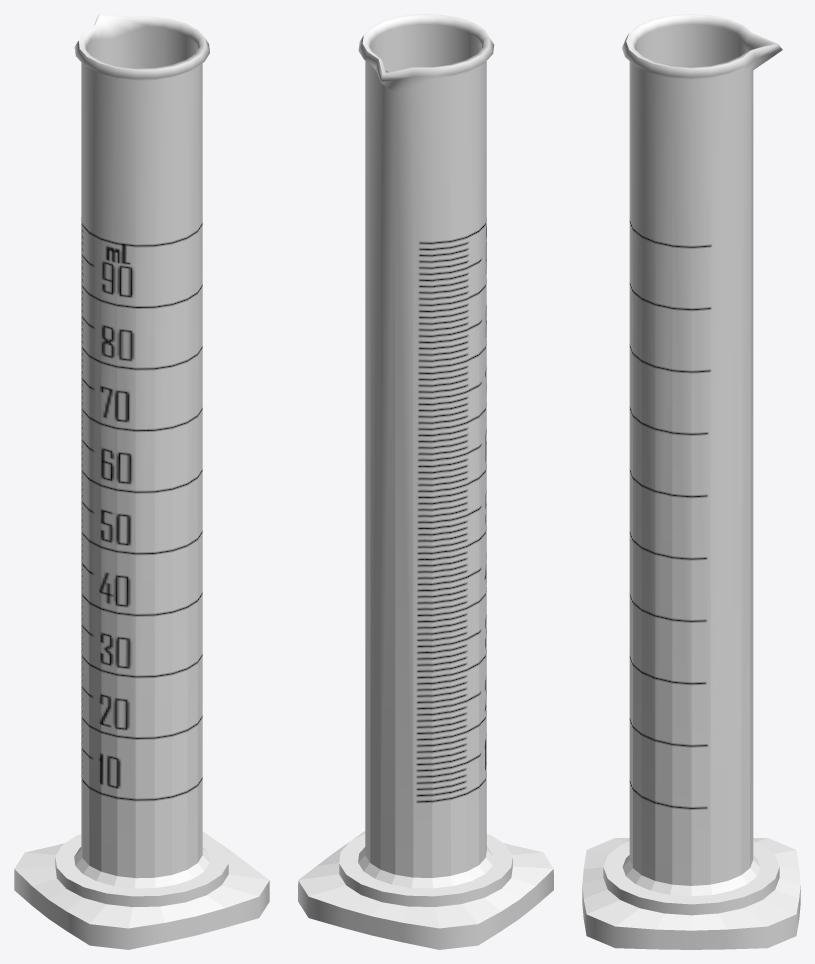
File: Measuring_Cylinder.fbx
The picture shows the model from 3 angles, left to right: view 1: azimuth 30°, elevation 25°; view 2: azimuth 150°, elevation 25°; view 3: azimuth 270°, elevation 25°; orthographic projection.
Parts seen in each view (by area): view 1: Measuring_Cylinder; view 2: Measuring_Cylinder; view 3: Measuring_Cylinder.
Part boxes in pixels (box(x1,y1,x2,y2)): Measuring_Cylinder: box(14, 14, 269, 949); Measuring_Cylinder: box(298, 14, 553, 949); Measuring_Cylinder: box(582, 14, 800, 949).
Size of the model in its own units: 231 by 1007 by 231.
Materials: 1 (1 with a texture image).
